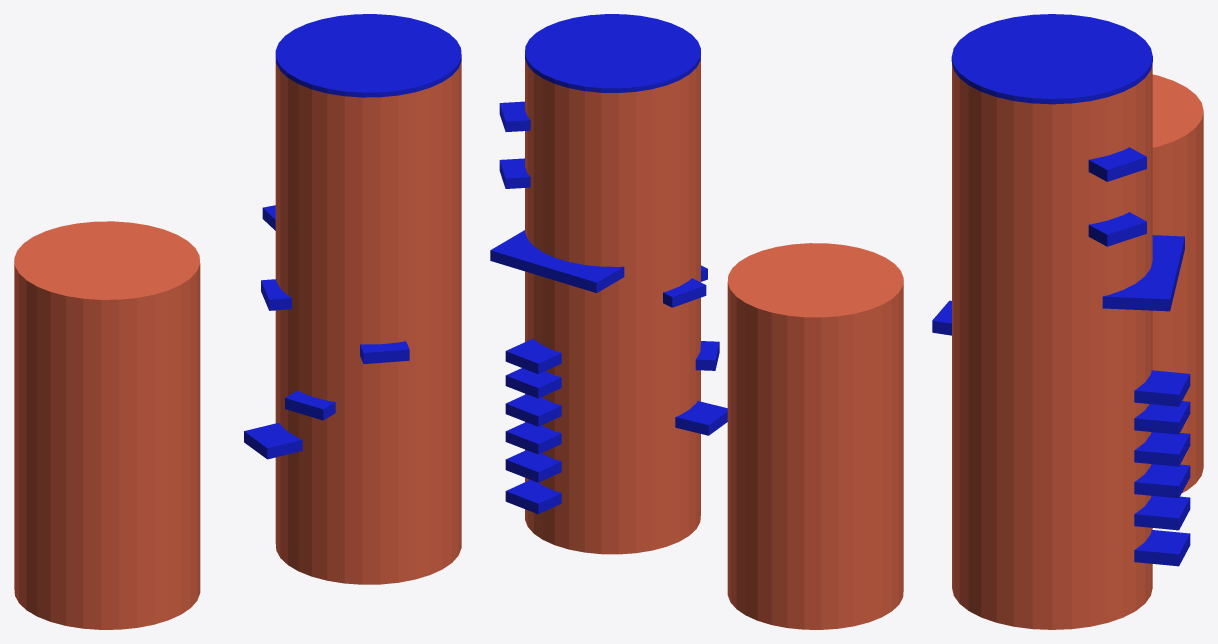
The model's file is WallClimbing.dae.
3 views of the same model, side by side, from view 1: azimuth 30°, elevation 25°; view 2: azimuth 150°, elevation 25°; view 3: azimuth 270°, elevation 25° (orthographic). The views are drawn at different scales.
Visible parts, largest first — view 1: Tower, SmallerTower, ledge-LedgeTop, ledge-Ledge.001, ledge-Ledge.002, ledge-Ledge.003, ledge-Ledge; view 2: Tower, SmallerTower, ledge-LedgeTop, ledge-Ledge.004, ledge-Ledge.007, ledge-Ledge.012, ledge-Ledge.001, ledge-Ledge.011, ledge-Ledge.009, ledge-Ledge.010, ledge-Ledge.008, ledge-Ledge.005 (+3 smaller); view 3: Tower, SmallerTower, ledge-LedgeTop, ledge-Ledge.004, ledge-Ledge.007, ledge-Ledge.012, ledge-Ledge.009, ledge-Ledge.011, ledge-Ledge.010, ledge-Ledge.008, ledge-Ledge.006, ledge-Ledge.005 (+1 smaller).
Boxes of the visible parts, x1=… form: Tower: x1=275, y1=58, x2=461, y2=584; SmallerTower: x1=14, y1=221, x2=200, y2=629; ledge-LedgeTop: x1=275, y1=14, x2=461, y2=97; ledge-Ledge.001: x1=244, y1=422, x2=302, y2=459; ledge-Ledge.002: x1=285, y1=390, x2=335, y2=420; ledge-Ledge.003: x1=360, y1=341, x2=409, y2=363; ledge-Ledge: x1=261, y1=279, x2=291, y2=310; Tower: x1=525, y1=56, x2=700, y2=554; SmallerTower: x1=727, y1=243, x2=903, y2=629; ledge-LedgeTop: x1=525, y1=14, x2=700, y2=92; ledge-Ledge.004: x1=490, y1=230, x2=624, y2=292; ledge-Ledge.007: x1=505, y1=338, x2=561, y2=374; ledge-Ledge.012: x1=505, y1=480, x2=561, y2=514; ledge-Ledge.001: x1=675, y1=401, x2=727, y2=435; ledge-Ledge.011: x1=505, y1=450, x2=561, y2=482; ledge-Ledge.009: x1=505, y1=394, x2=561, y2=426; ledge-Ledge.010: x1=505, y1=422, x2=561, y2=454; ledge-Ledge.008: x1=505, y1=368, x2=561, y2=398; ledge-Ledge.005: x1=499, y1=158, x2=530, y2=188; Tower: x1=952, y1=63, x2=1152, y2=629; SmallerTower: x1=1152, y1=74, x2=1203, y2=492; ledge-LedgeTop: x1=951, y1=14, x2=1152, y2=104; ledge-Ledge.004: x1=1102, y1=235, x2=1184, y2=311; ledge-Ledge.007: x1=1134, y1=370, x2=1190, y2=406; ledge-Ledge.012: x1=1134, y1=530, x2=1190, y2=566; ledge-Ledge.009: x1=1134, y1=432, x2=1190, y2=466; ledge-Ledge.011: x1=1134, y1=495, x2=1190, y2=530; ledge-Ledge.010: x1=1134, y1=464, x2=1190, y2=498; ledge-Ledge.008: x1=1134, y1=401, x2=1190, y2=434; ledge-Ledge.006: x1=1088, y1=147, x2=1146, y2=181; ledge-Ledge.005: x1=1088, y1=212, x2=1146, y2=246.
Size of what is drawn, in the model's own units: 4.37 by 2.31 by 5.02.
